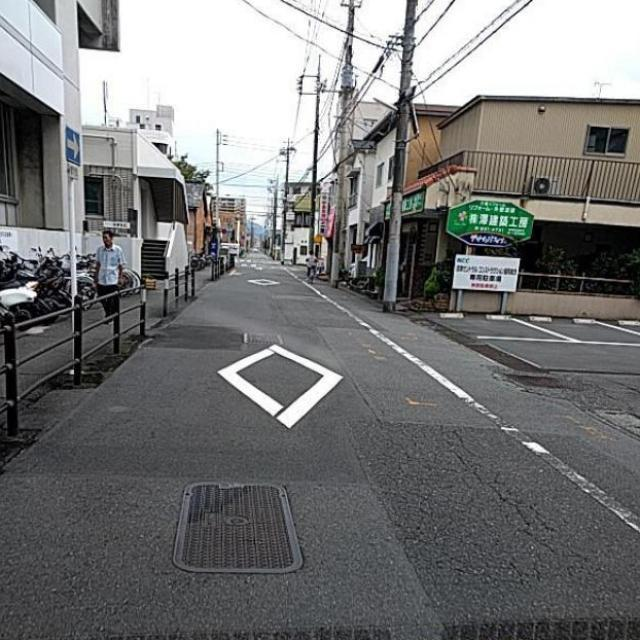Sambungan: (355, 423, 640, 640), (176, 484, 302, 569), (147, 321, 242, 349)
